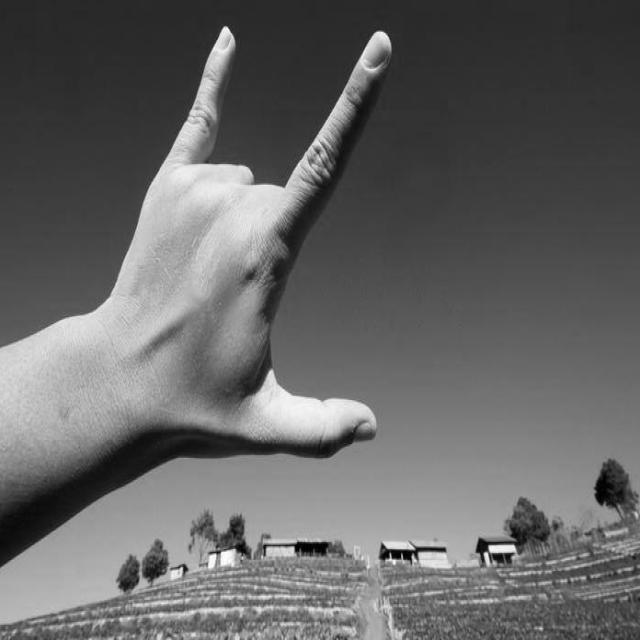i love you: (105, 16, 402, 467)
